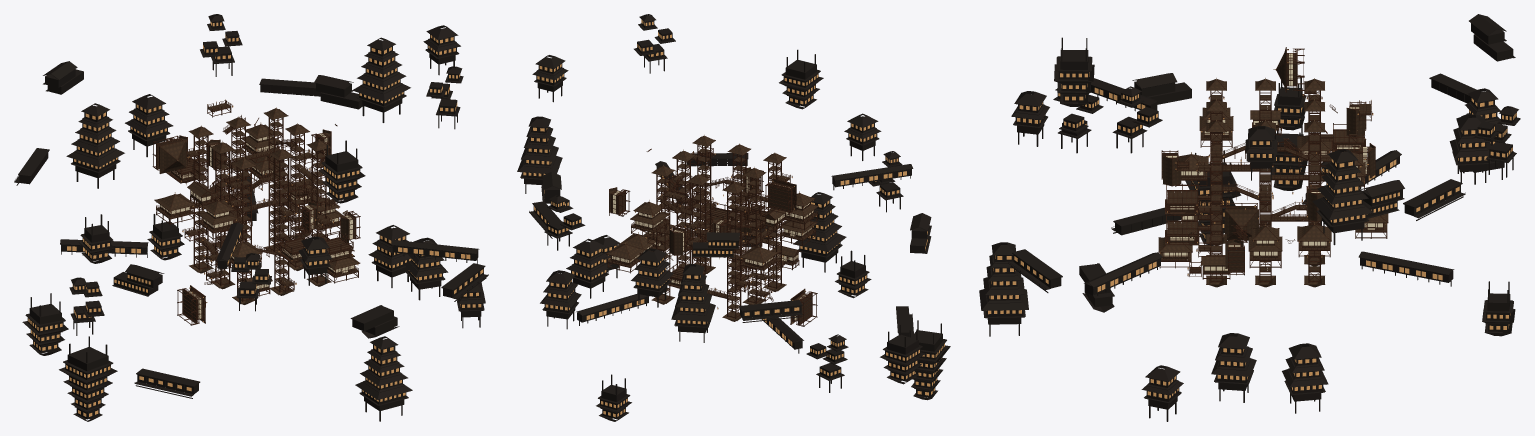
Rendered from central_abyss_cluster.glb.
3 renders of one model, left to right at view 1: azimuth 30°, elevation 25°; view 2: azimuth 150°, elevation 25°; view 3: azimuth 270°, elevation 25°, orthographic. The views are drawn at different scales.
Parts seen in each view (by area): view 1: IC12_Central_Abyss_Cluster, IC12_BG_171__Mesh, IC12_BG_157__Mesh, IC12_BG_164__Mesh, IC12_BG_178__Mesh, IC12_BG_177__Mesh, IC12_BG_163__Mesh, IC12_BG_170__Mesh, IC12_BG_156__Mesh, IC12_BG_184__Mesh, IC12_BG_181__Mesh, IC12_BG_173__Mesh (+30 smaller); view 2: IC12_Central_Abyss_Cluster, IC12_BG_164__Mesh, IC12_BG_157__Mesh, IC12_BG_178__Mesh, IC12_BG_171__Mesh, IC12_BG_170__Mesh, IC12_BG_177__Mesh, IC12_BG_184__Mesh, IC12_BG_163__Mesh, IC12_BG_156__Mesh, IC12_BG_168__Mesh, IC12_BG_166__Mesh (+25 smaller); view 3: IC12_Central_Abyss_Cluster, IC12_BG_157__Mesh, IC12_BG_178__Mesh, IC12_BG_156__Mesh, IC12_BG_184__Mesh, IC12_BG_177__Mesh, IC12_BG_163__Mesh, IC12_BG_160__Mesh, IC12_BG_161__Mesh, IC12_BG_183__Mesh, IC12_BG_176__Mesh, IC12_BG_182__Mesh (+33 smaller).
Boxes of the visible parts, box(x1,y1,x2,y2) form: IC12_Central_Abyss_Cluster: box(188, 107, 331, 304); IC12_BG_171__Mesh: box(59, 336, 117, 421); IC12_BG_157__Mesh: box(352, 37, 410, 122); IC12_BG_164__Mesh: box(66, 103, 124, 188); IC12_BG_178__Mesh: box(355, 336, 412, 421); IC12_BG_177__Mesh: box(318, 140, 365, 203); IC12_BG_163__Mesh: box(125, 94, 173, 157); IC12_BG_170__Mesh: box(22, 293, 68, 355); IC12_BG_156__Mesh: box(368, 225, 410, 287); IC12_BG_184__Mesh: box(403, 237, 448, 300); IC12_BG_181__Mesh: box(391, 240, 479, 263); IC12_BG_173__Mesh: box(134, 368, 200, 398); IC12_Central_Abyss_Cluster: box(651, 135, 786, 321); IC12_BG_164__Mesh: box(671, 264, 715, 342); IC12_BG_157__Mesh: box(517, 116, 562, 193); IC12_BG_178__Mesh: box(793, 192, 846, 272); IC12_BG_171__Mesh: box(909, 320, 950, 400); IC12_BG_170__Mesh: box(880, 324, 925, 384); IC12_BG_177__Mesh: box(779, 49, 823, 109); IC12_BG_184__Mesh: box(566, 238, 612, 298); IC12_BG_163__Mesh: box(631, 248, 673, 307); IC12_BG_156__Mesh: box(540, 270, 581, 329); IC12_BG_168__Mesh: box(806, 334, 848, 392); IC12_BG_166__Mesh: box(739, 300, 802, 322); IC12_Central_Abyss_Cluster: box(1206, 78, 1325, 287); IC12_BG_157__Mesh: box(1312, 149, 1373, 245); IC12_BG_178__Mesh: box(979, 242, 1028, 336); IC12_BG_156__Mesh: box(1282, 343, 1328, 413); IC12_BG_184__Mesh: box(1211, 333, 1256, 402); IC12_BG_177__Mesh: box(1054, 37, 1094, 106); IC12_BG_163__Mesh: box(1449, 114, 1491, 182); IC12_BG_160__Mesh: box(1358, 251, 1454, 286); IC12_BG_161__Mesh: box(1473, 106, 1520, 177); IC12_BG_183__Mesh: box(1141, 365, 1183, 421); IC12_BG_176__Mesh: box(1011, 91, 1049, 146); IC12_BG_182__Mesh: box(1112, 86, 1162, 153).
Size of the model in its own units: 177 by 122 by 177.
7 materials, 4 textured.
